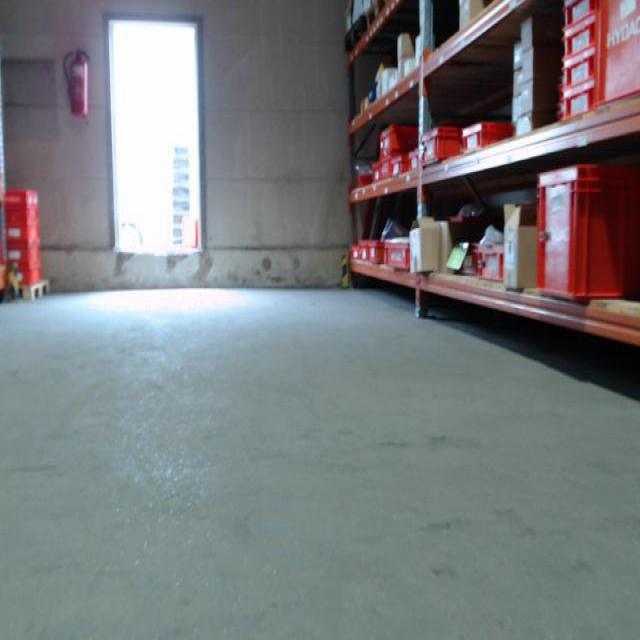pallet: (343, 13, 365, 55), (10, 280, 51, 302), (365, 0, 392, 30)
small_load_carrier: (535, 162, 638, 301), (596, 5, 637, 118), (417, 120, 465, 172), (462, 118, 507, 160), (561, 13, 598, 61), (556, 81, 599, 122), (558, 53, 599, 92), (468, 244, 505, 287), (381, 239, 416, 272), (557, 1, 598, 29), (376, 123, 414, 151), (5, 187, 44, 210), (6, 246, 45, 266), (5, 210, 43, 227), (7, 228, 40, 246), (14, 266, 45, 285), (365, 239, 384, 269), (379, 157, 397, 183), (409, 146, 424, 175), (394, 155, 406, 178), (359, 239, 367, 263), (372, 162, 381, 183), (348, 247, 360, 261)
